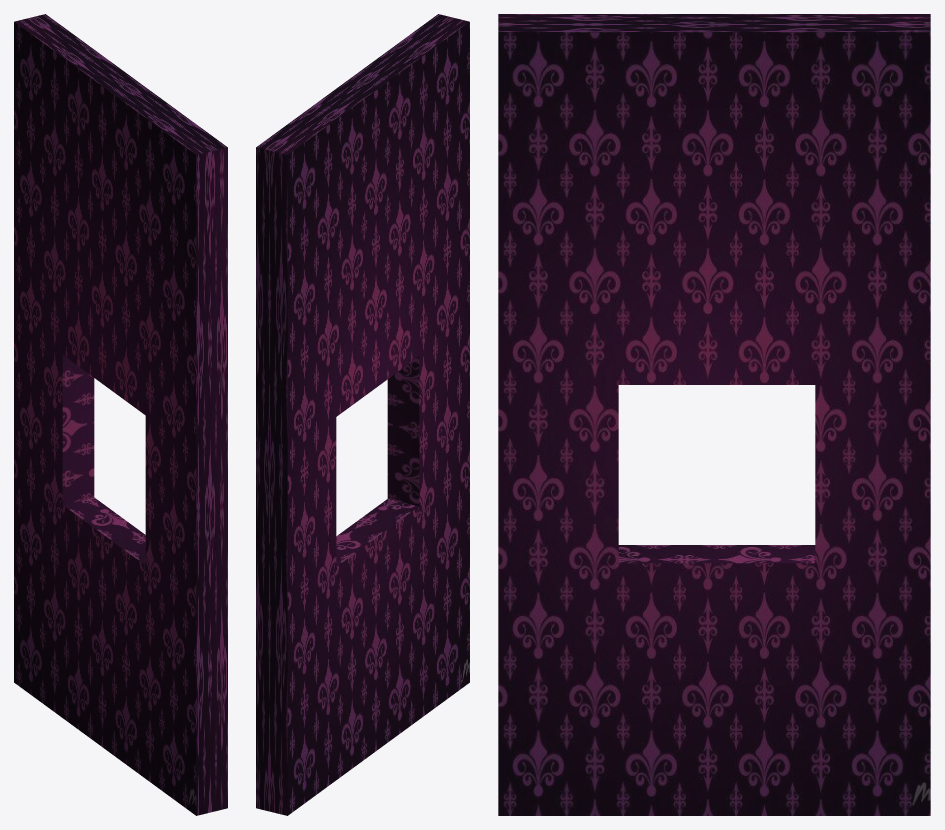
File: paredes-janela.fbx
3 views of the same model, side by side, from view 1: azimuth 30°, elevation 25°; view 2: azimuth 150°, elevation 25°; view 3: azimuth 270°, elevation 25° (orthographic). The views are drawn at different scales.
Parts seen in each view (by area): view 1: Cube.004; view 2: Cube.004; view 3: Cube.004.
Boxes of the visible parts, left/top/right/bottom form: Cube.004: left=14, top=14, right=227, bottom=815; Cube.004: left=256, top=14, right=469, bottom=815; Cube.004: left=498, top=14, right=930, bottom=815.
Bounding box in the file's own units: 43.99 × 880 × 440.
1 material, 1 textured.
